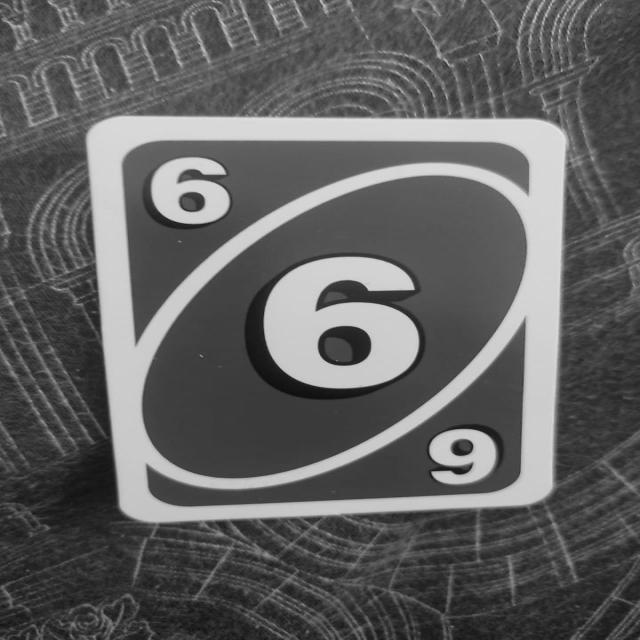card_6: (85, 115, 567, 523)
